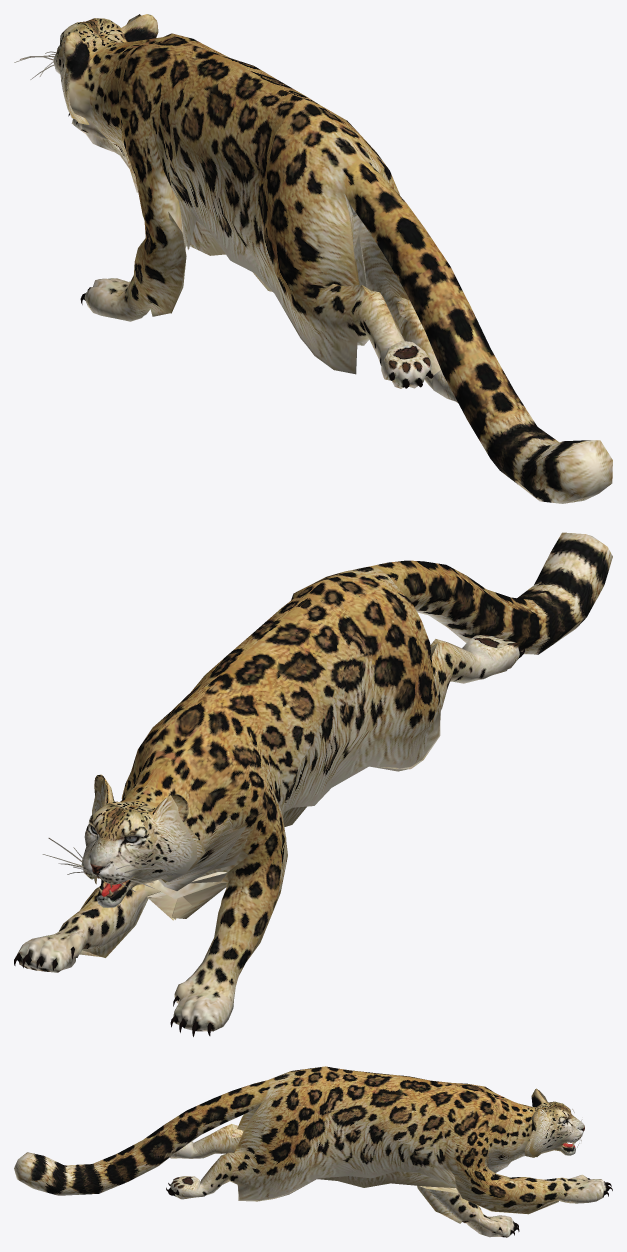
File: leopard.glb
3 renders of one model, top to bottom at view 1: azimuth 30°, elevation 25°; view 2: azimuth 150°, elevation 25°; view 3: azimuth 270°, elevation 25°, orthographic. The views are drawn at different scales.
Visible parts, largest first — view 1: leopard; view 2: leopard; view 3: leopard.
Boxes of the visible parts, <box> form: leopard: <box>14,14,612,503</box>; leopard: <box>14,532,612,1036</box>; leopard: <box>14,1066,612,1237</box>.
Size of the model in its own units: 0.3571 by 0.85 by 2.62.
1 material, 1 textured.
